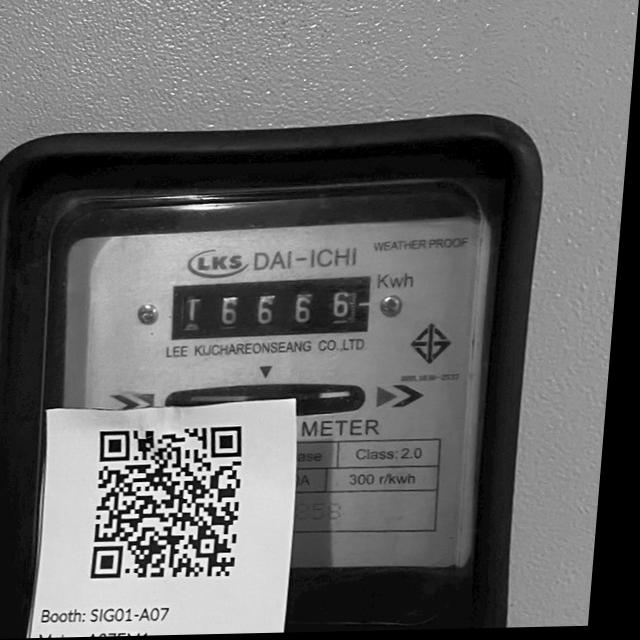qr_code: (86, 422, 246, 580)
